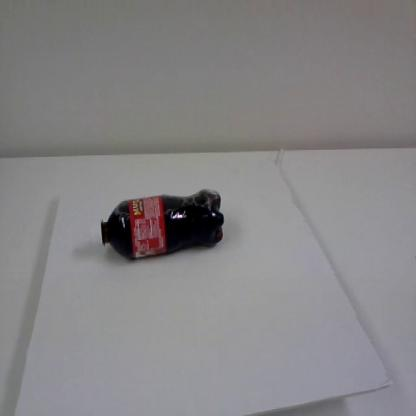bottle: (86, 186, 226, 262)
